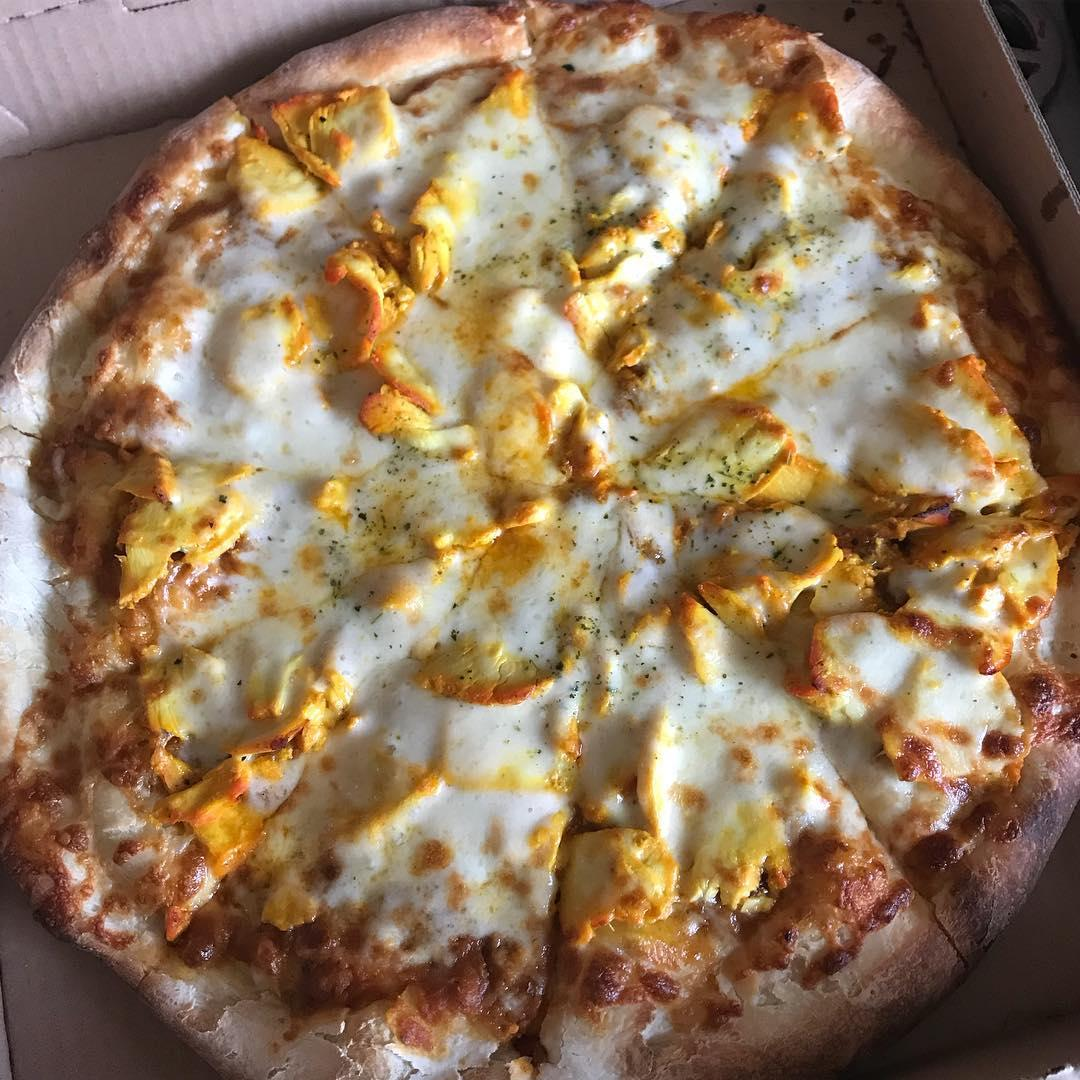Chicken: (165, 660, 348, 887), (530, 815, 798, 940), (645, 528, 858, 680), (238, 77, 425, 245), (88, 445, 287, 598), (575, 200, 697, 388), (327, 213, 475, 362), (930, 522, 1065, 650), (925, 367, 1052, 490), (393, 630, 572, 717), (683, 415, 825, 522), (322, 345, 453, 460), (745, 43, 853, 178), (333, 760, 457, 870), (490, 373, 588, 485), (430, 490, 542, 572), (470, 58, 545, 138)
Pizza: (0, 0, 1080, 1080)
